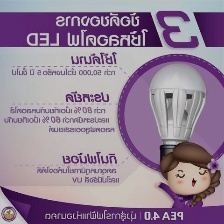light_bulb: (146, 61, 208, 172)
